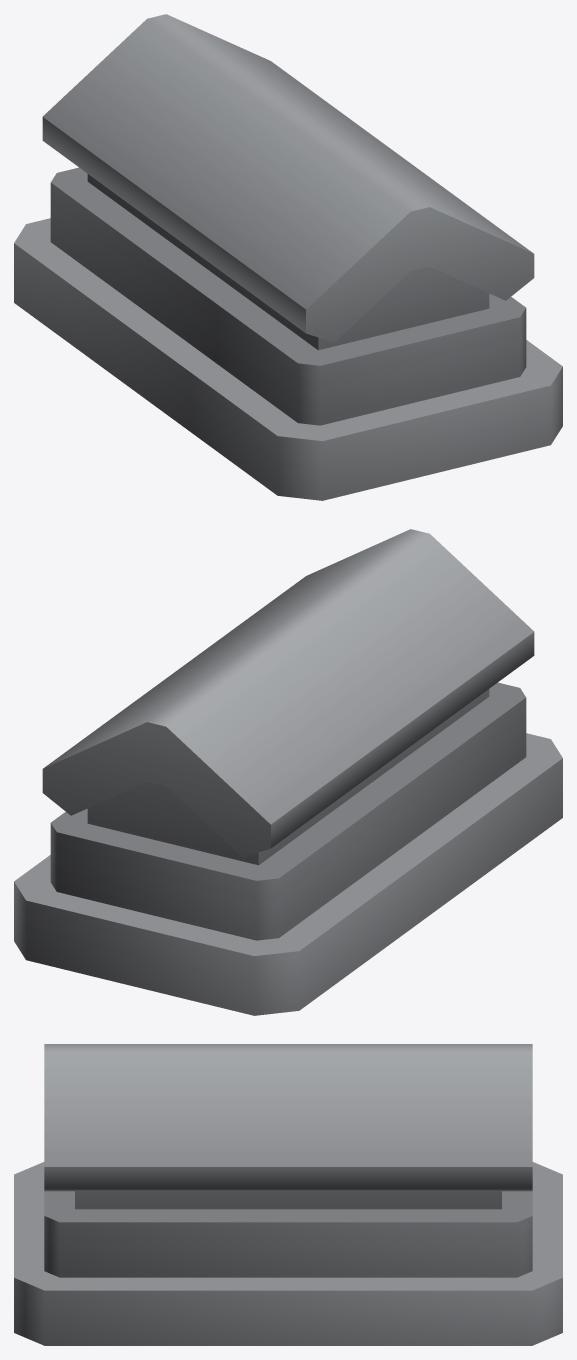
File: crypt-a.glb
3 renders of one model, top to bottom at view 1: azimuth 30°, elevation 25°; view 2: azimuth 150°, elevation 25°; view 3: azimuth 270°, elevation 25°, orthographic. The views are drawn at different scales.
Parts seen in each view (by area): view 1: crypt-a; view 2: crypt-a; view 3: crypt-a.
Boxes of the visible parts, x1,y1,x2,y2 form: crypt-a: (14,14,562,500); crypt-a: (14,529,562,1015); crypt-a: (14,1044,562,1345).
Bounding box in the file's own units: 1.49 × 1.25 × 2.68.
Materials: 1 (1 with a texture image).
